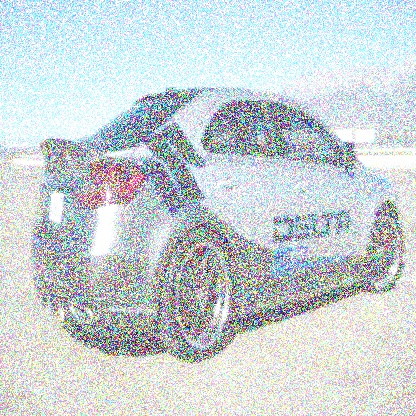Vehicle: (30, 86, 406, 362)
